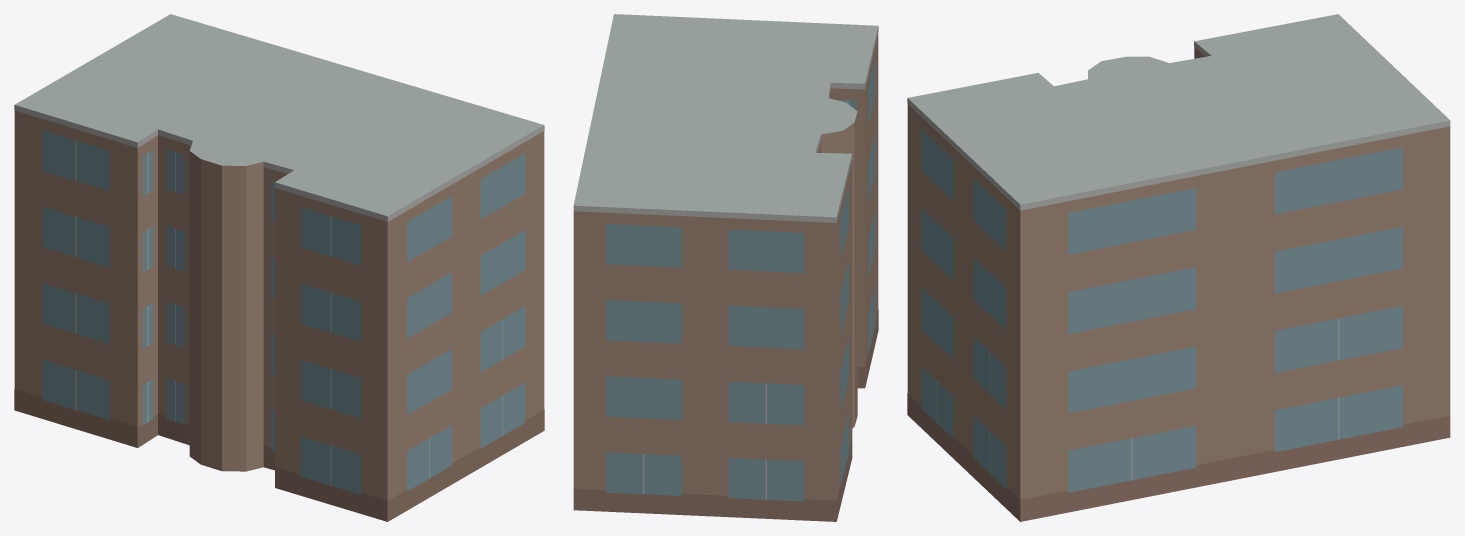
Rendered from survey-upis-32938846.glb.
3 renders of one model, left to right at view 1: azimuth 30°, elevation 25°; view 2: azimuth 150°, elevation 25°; view 3: azimuth 270°, elevation 25°, orthographic. The views are drawn at different scales.
Visible parts, largest first — view 1: survey-upis-32938846.tmp; view 2: survey-upis-32938846.tmp; view 3: survey-upis-32938846.tmp.
Boxes of the visible parts, left/top/right/bottom form: survey-upis-32938846.tmp: left=14, top=14, right=544, bottom=521; survey-upis-32938846.tmp: left=573, top=14, right=878, bottom=521; survey-upis-32938846.tmp: left=907, top=14, right=1450, bottom=521.
Bounding box in the file's own units: 17.08 × 13.23 × 20.54.
